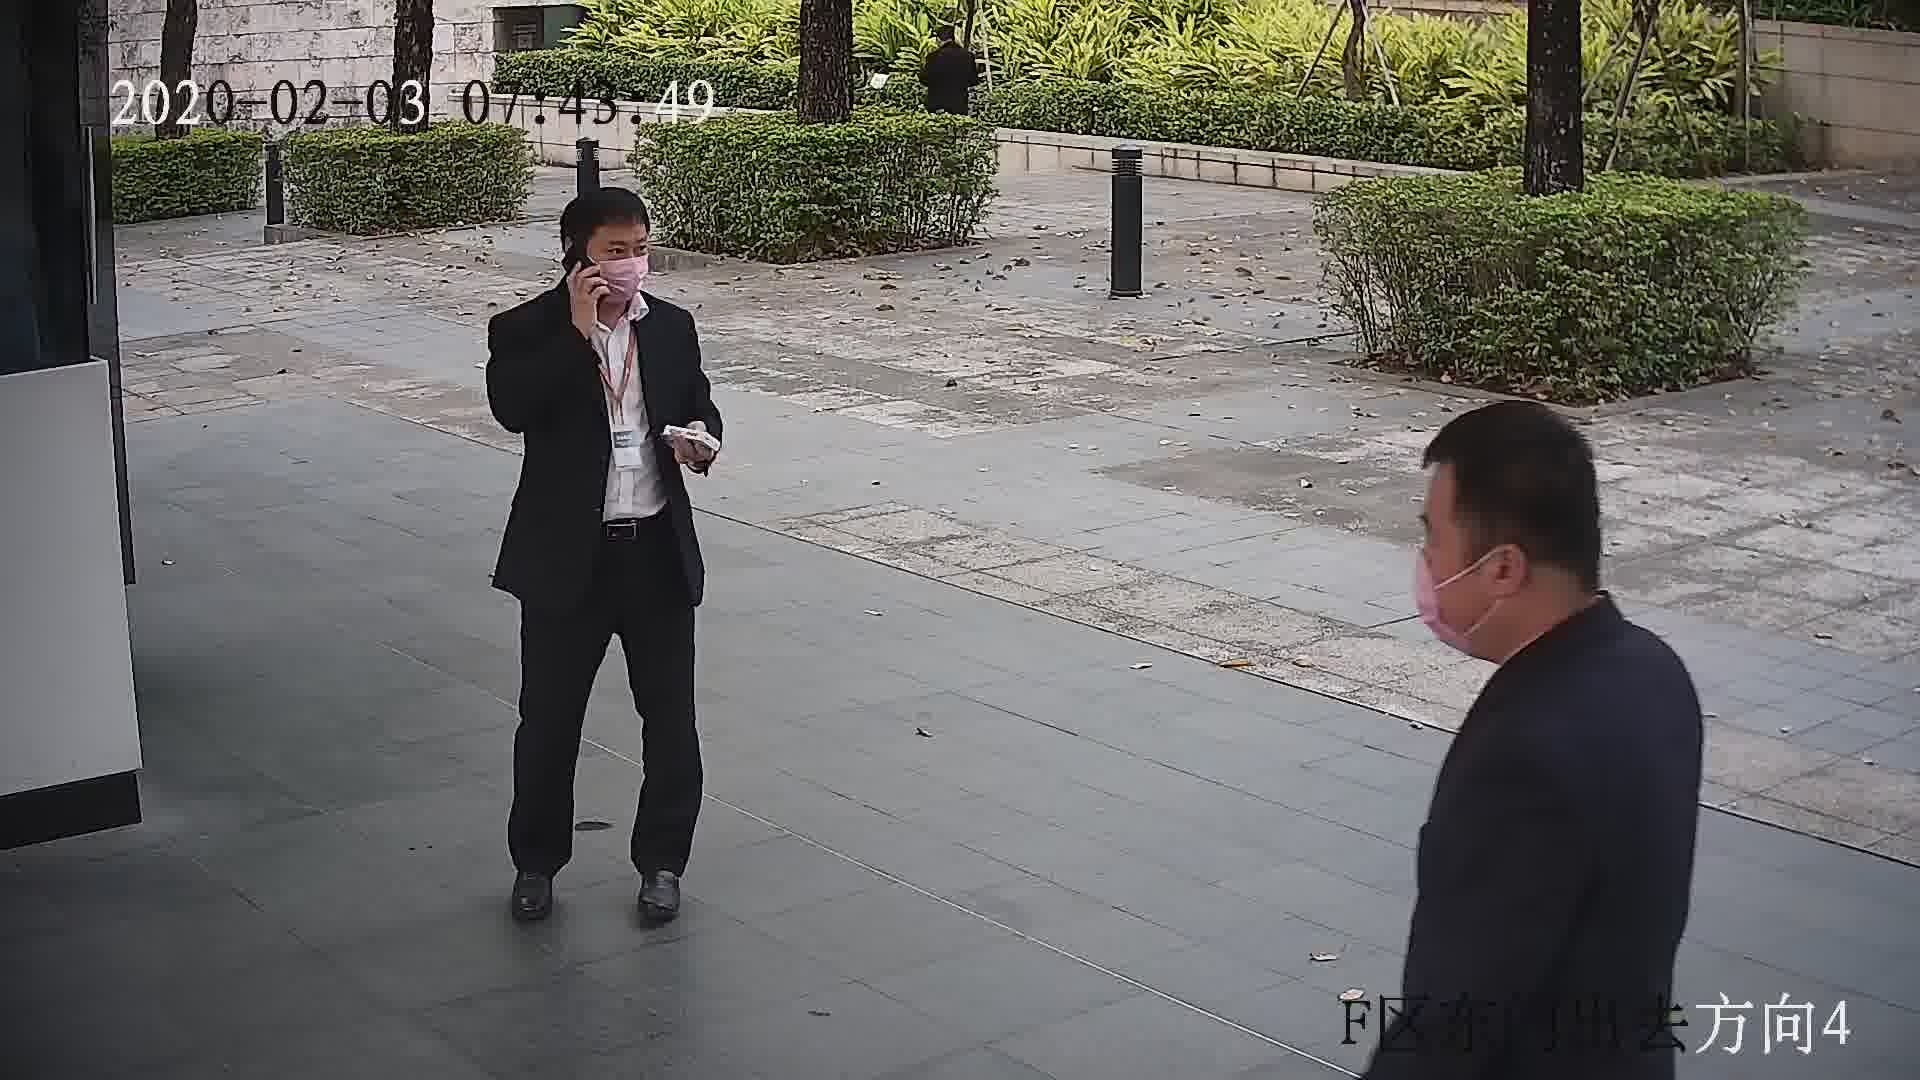face: (1409, 445, 1541, 661), (587, 224, 653, 307)
mask: (1408, 541, 1477, 653), (592, 248, 649, 307)
person: (1411, 402, 1703, 800), (487, 188, 705, 361)
